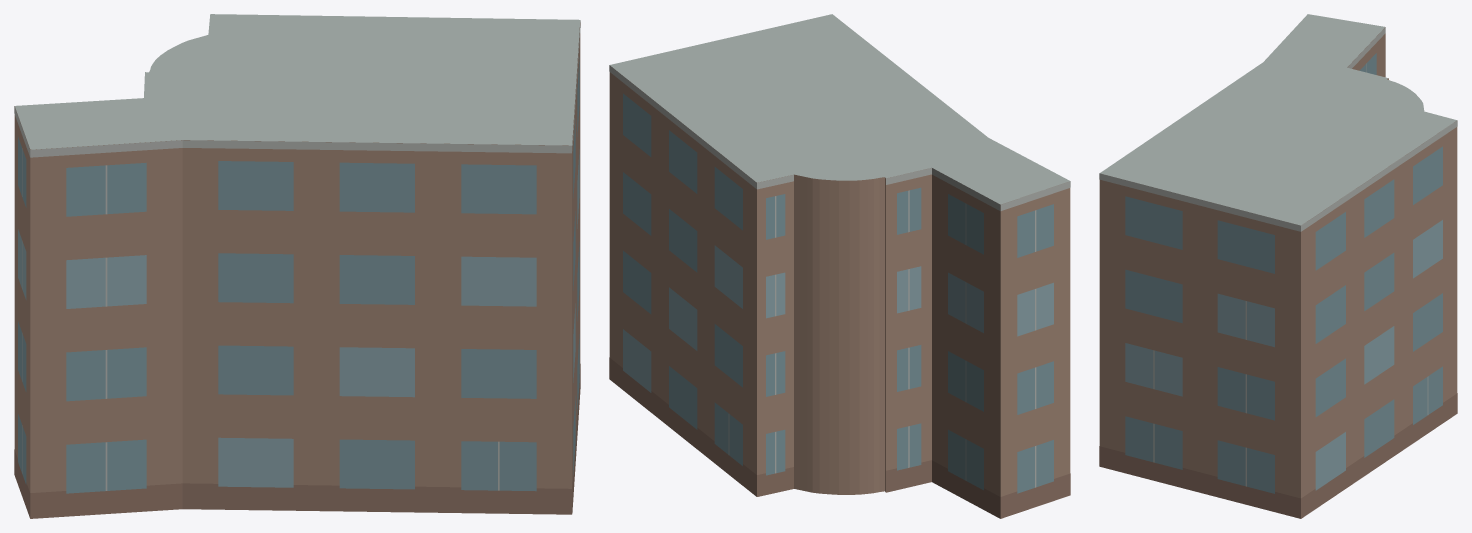
File: survey-upis-32668585.glb
3 renders of one model, left to right at view 1: azimuth 30°, elevation 25°; view 2: azimuth 150°, elevation 25°; view 3: azimuth 270°, elevation 25°, orthographic. The views are drawn at different scales.
Visible parts, largest first — view 1: survey-upis-32668585.tmp; view 2: survey-upis-32668585.tmp; view 3: survey-upis-32668585.tmp.
Part boxes in pixels (bbox=[...]): survey-upis-32668585.tmp: bbox=[14, 14, 580, 518]; survey-upis-32668585.tmp: bbox=[609, 14, 1070, 518]; survey-upis-32668585.tmp: bbox=[1099, 14, 1457, 518].
Bounding box in the file's own units: 17.69 × 11.43 × 12.65.
